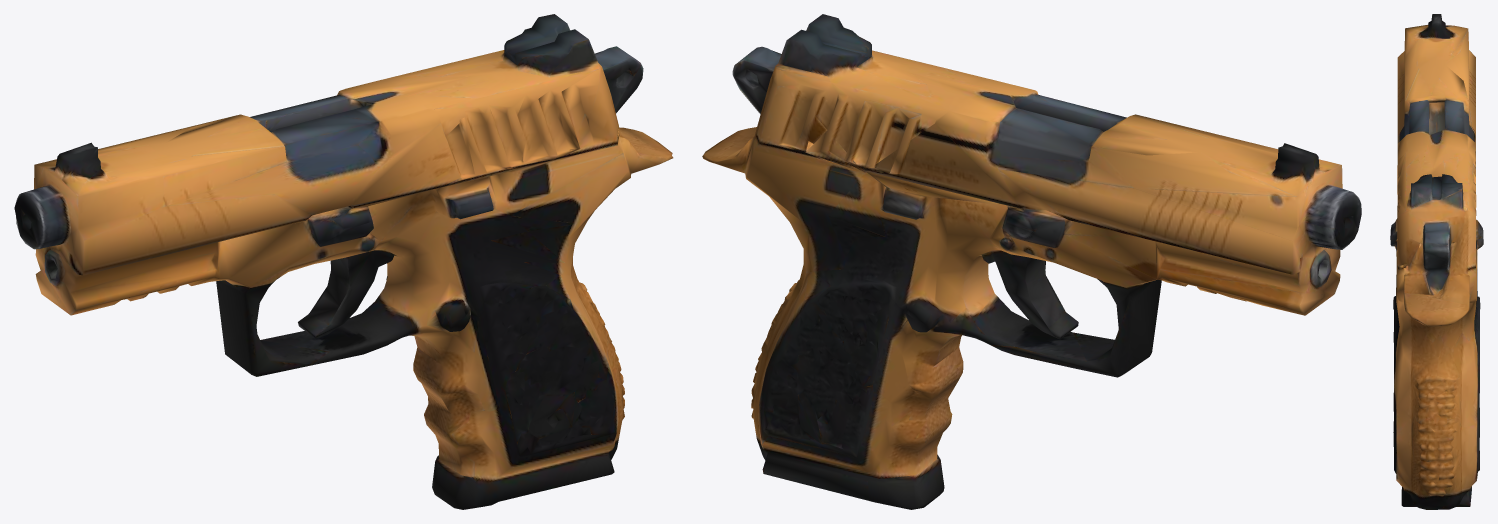
The model's file is wpn3p_pistol.glb.
3 renders of one model, left to right at view 1: azimuth 30°, elevation 25°; view 2: azimuth 150°, elevation 25°; view 3: azimuth 270°, elevation 25°, orthographic. The views are drawn at different scales.
Size of the model in its own units: 1.91 by 1.27 by 0.3367.
Materials: 1 (1 with a texture image).
